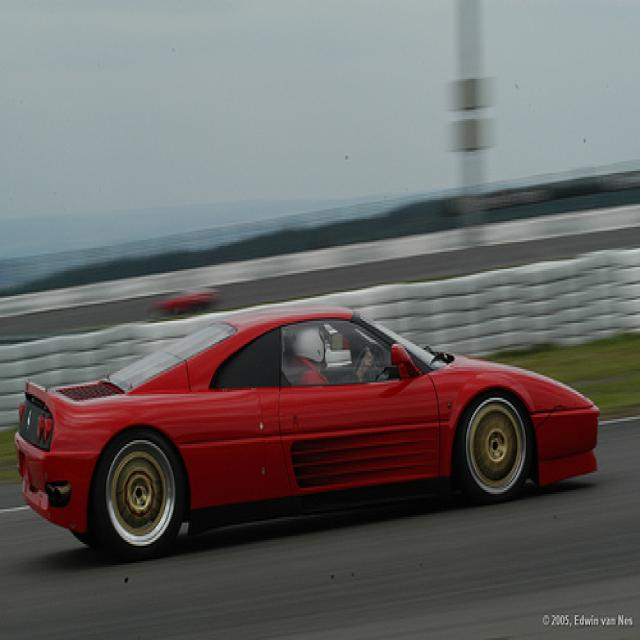car: (14, 301, 599, 560)
